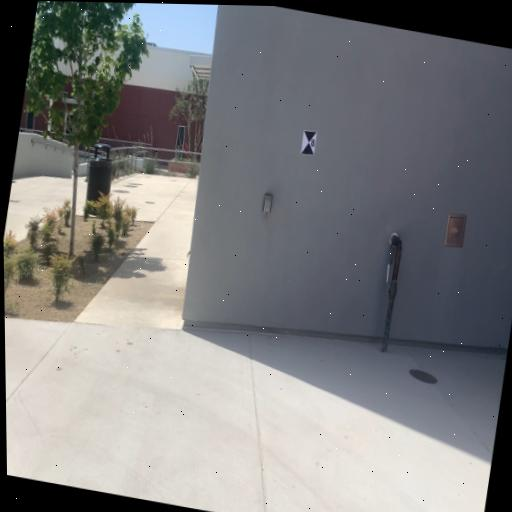target8: (299, 129, 318, 157)
